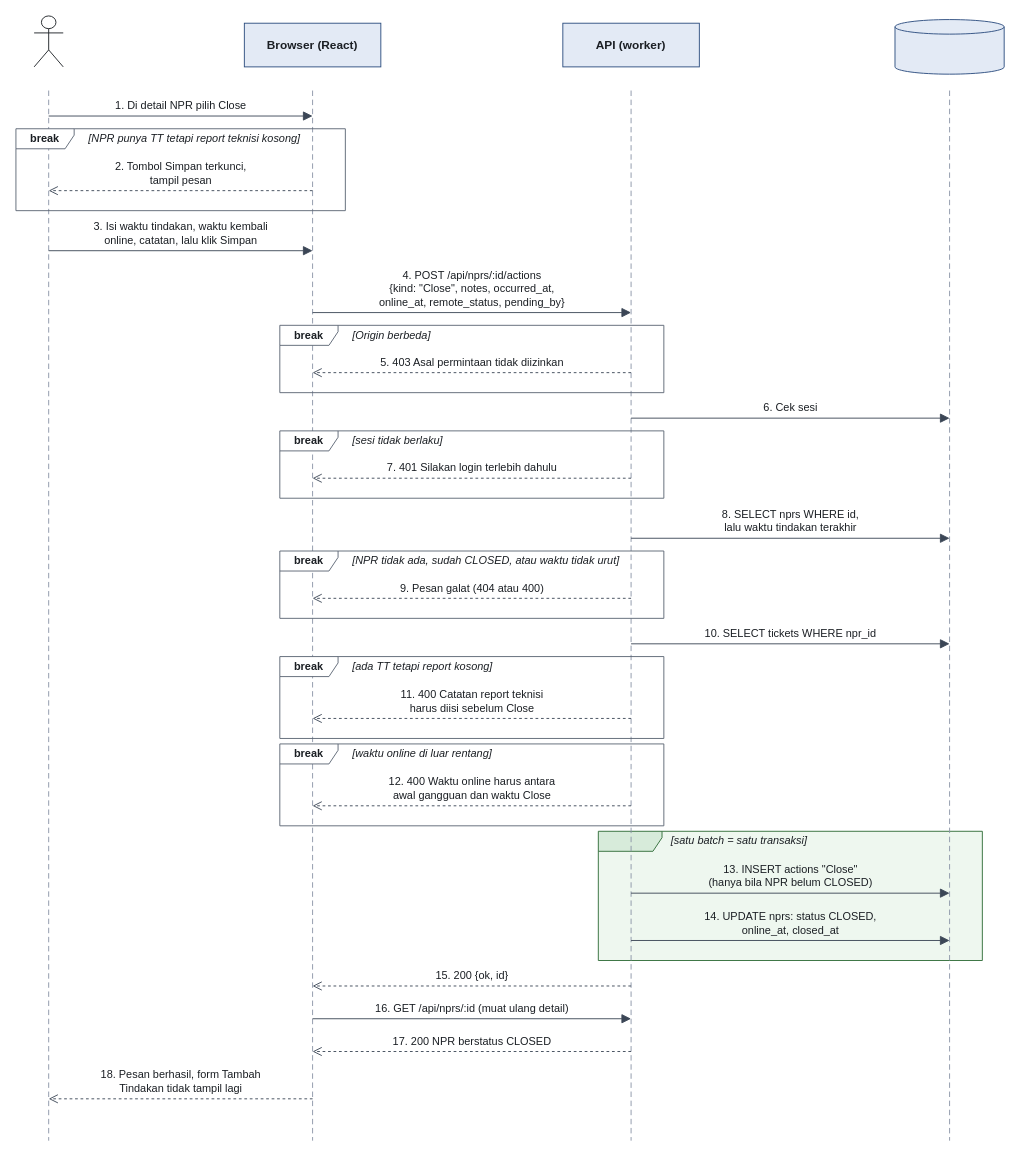
The diagram is 1020 pixels wide and 1158 high, and some of its shapes have lost their labels. The box of each missing label's shape, as (x1, y1, x2, y2) in pixels:
critical: (597, 830, 982, 961)
Database: (894, 19, 1004, 74)
Helpdesk: (33, 15, 63, 67)
